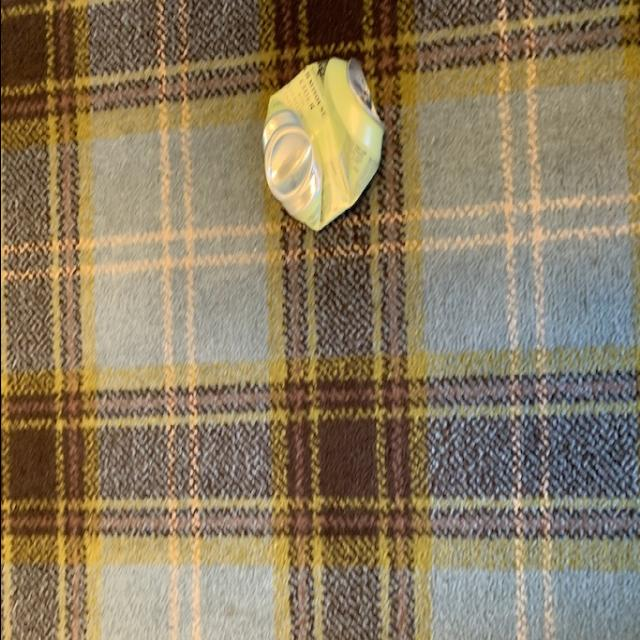litter: (254, 54, 384, 235)
